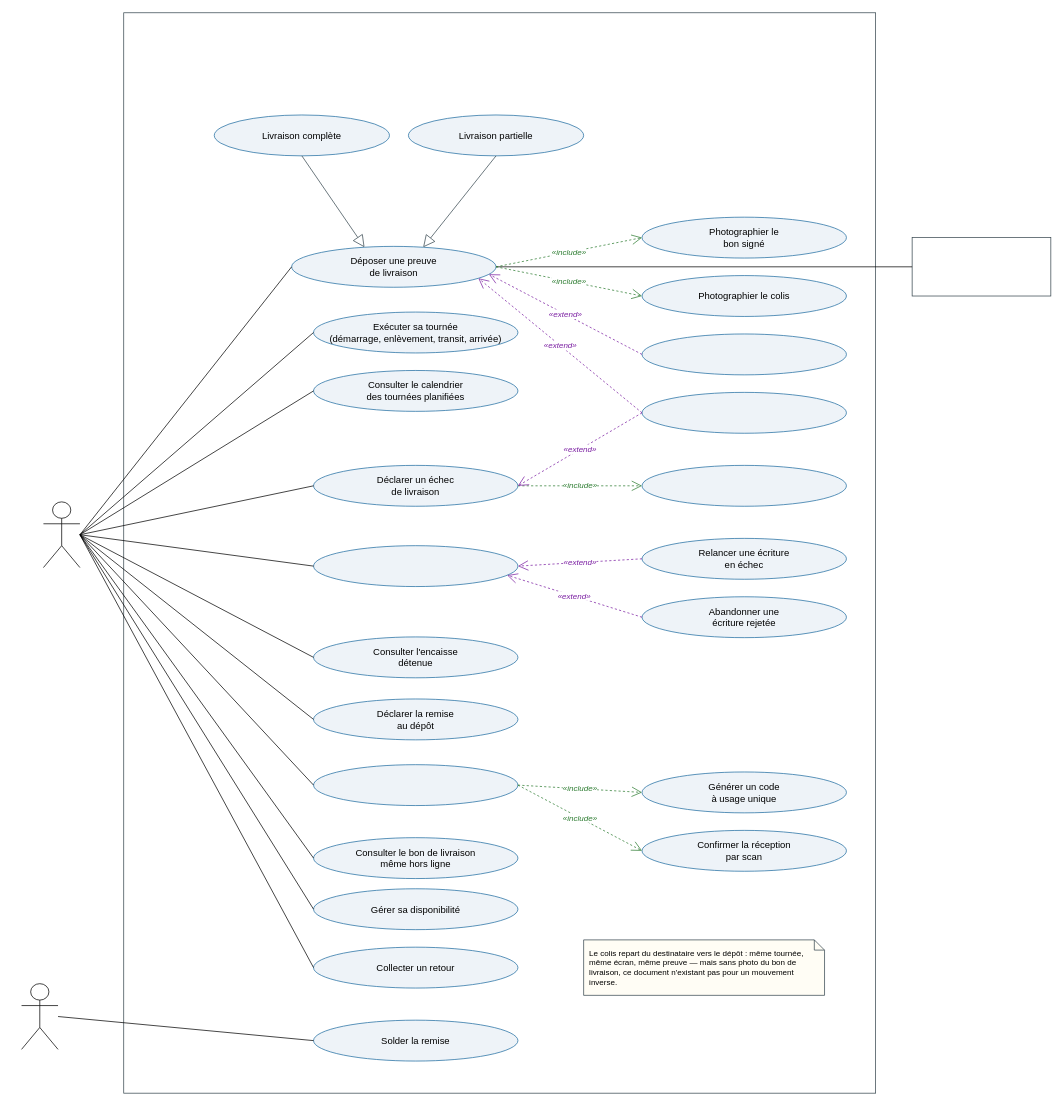
Image size: 1064x1106. Some labels were removed from this diagram. The shapes that lost their labels are listed below. From the top down, each one's centre as x and y in pixels, then its label:
[981,266]: « système externe » Progiciel ERP (Odoo / ERPNext)
[743,354]: Enregistrer l'encaissement
[743,412]: Joindre un commentaire
[743,485]: Choisir un motif d'échec
[61,534]: Chauffeur
[415,566]: Consulter le centre de synchronisation
[415,785]: Transférer la garde d'un colis
[39,1016]: Dispatcheur
